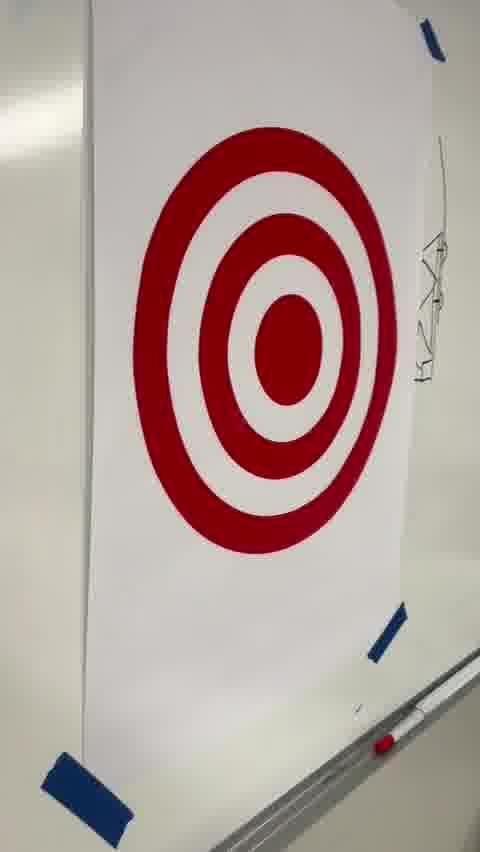target_red: (133, 127, 400, 558)
